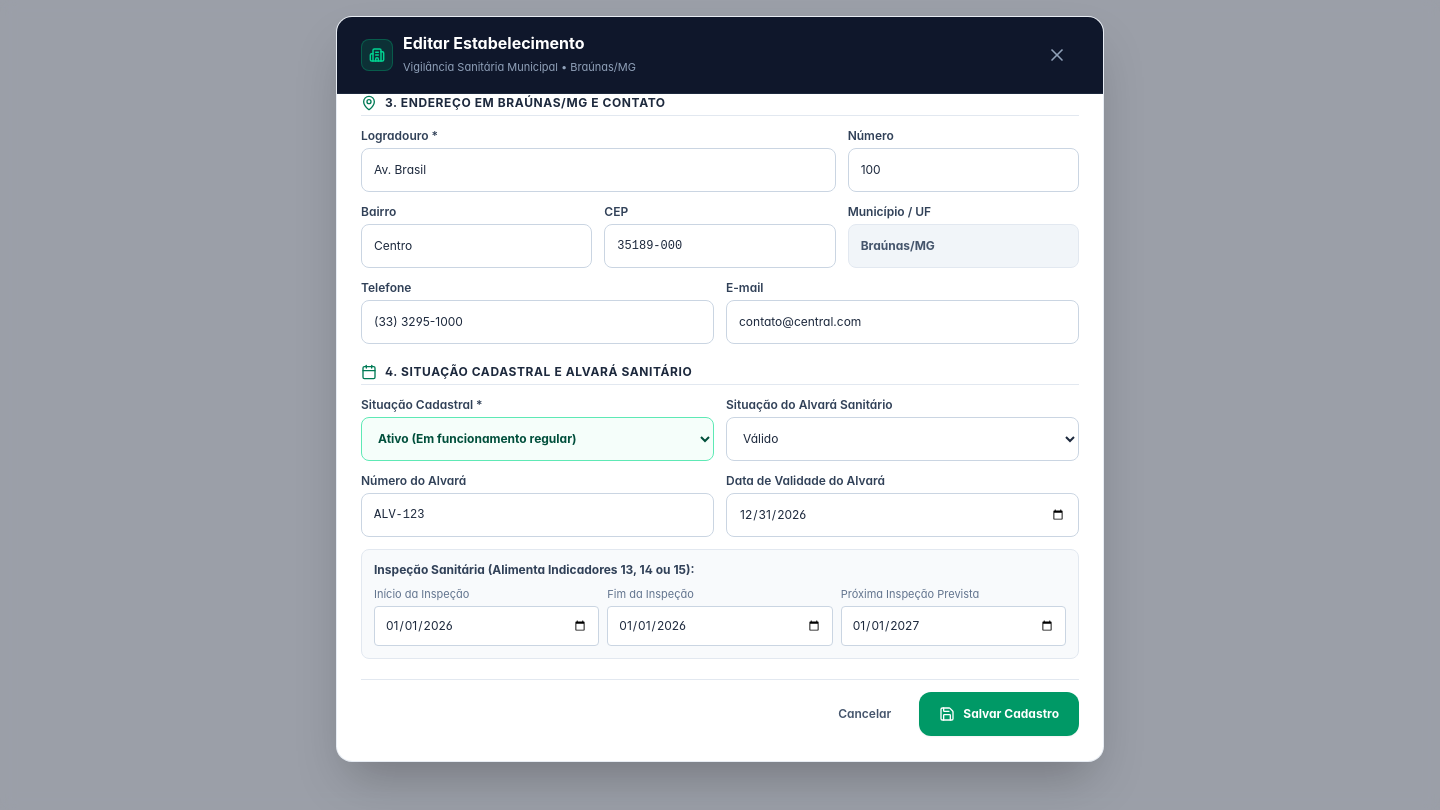
Test: EstabelecimentoModal - Unit Tests › permite selecionar a nova situacao de alvara "Não Possui (Irregular)" e exibe aviso de irregularidade
(page scrolled)
Note: Localiza o select de Situação do Alvará Sanitário
Select "Não Possui (Irregular)" in the dropdown labelled "Situação do Alvará Sanitário". click: (902, 439)
box: [726,417,1079,461]
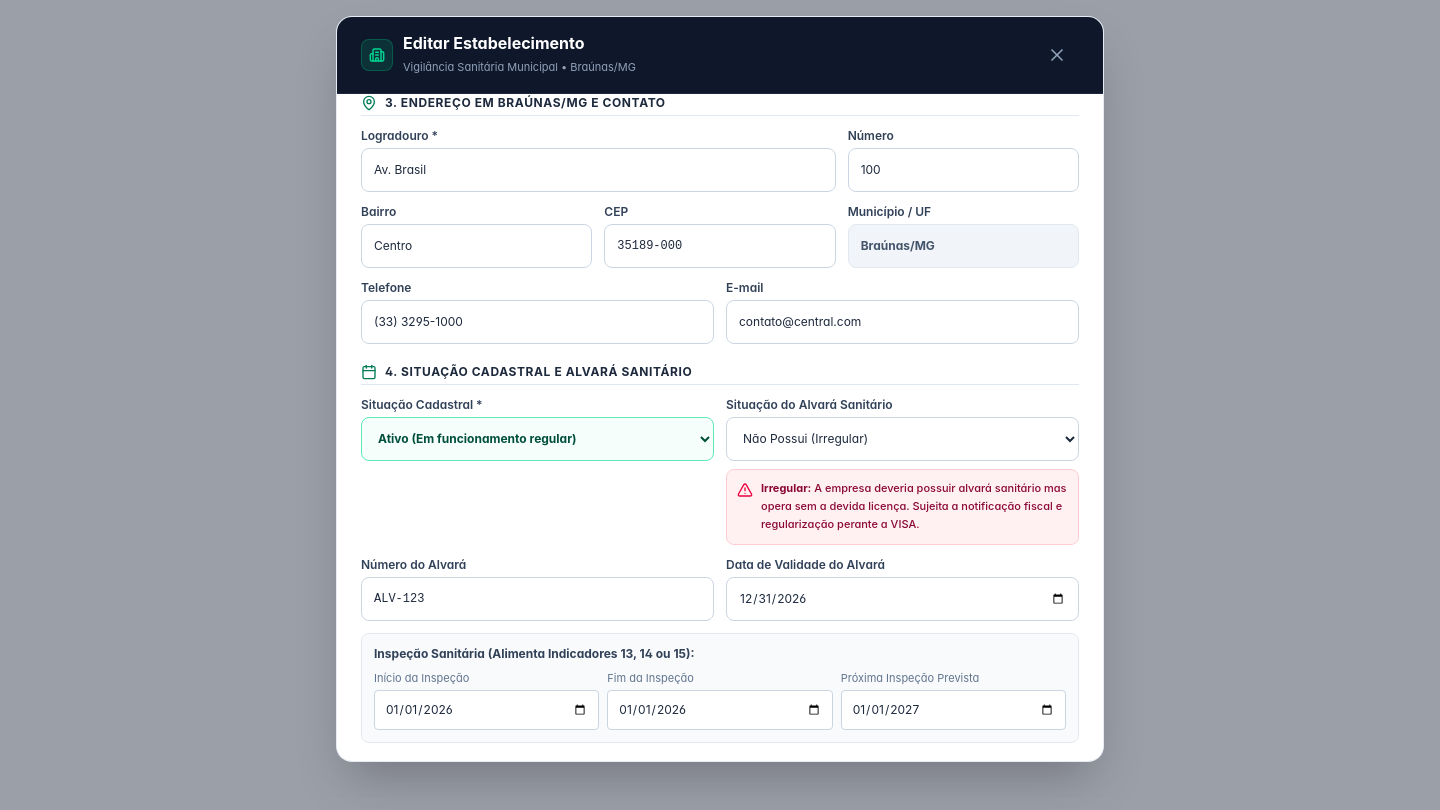
Expected: the text "A empresa deveria possuir alvará sanitário mas opera sem a devida licença" is shown, [761,481,1066,531]
